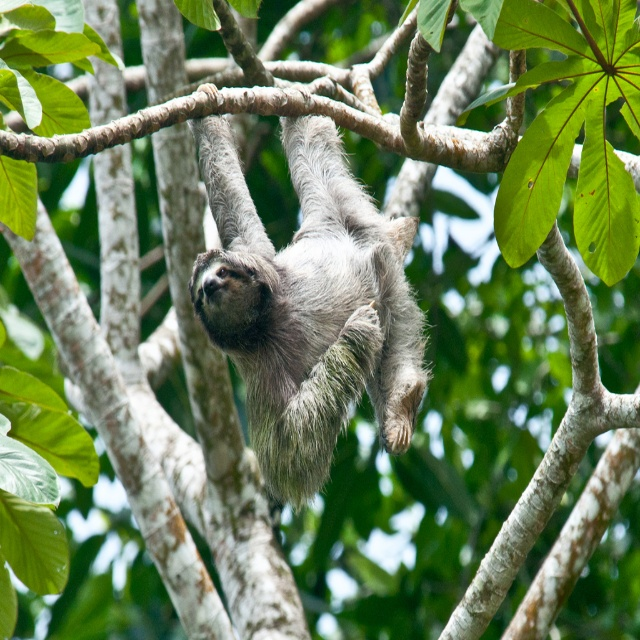Monkey: (186, 83, 438, 519)
